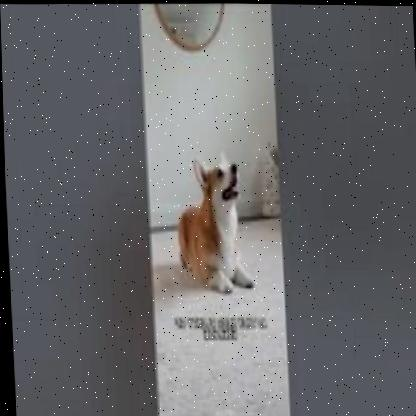dog: (172, 150, 254, 294)
